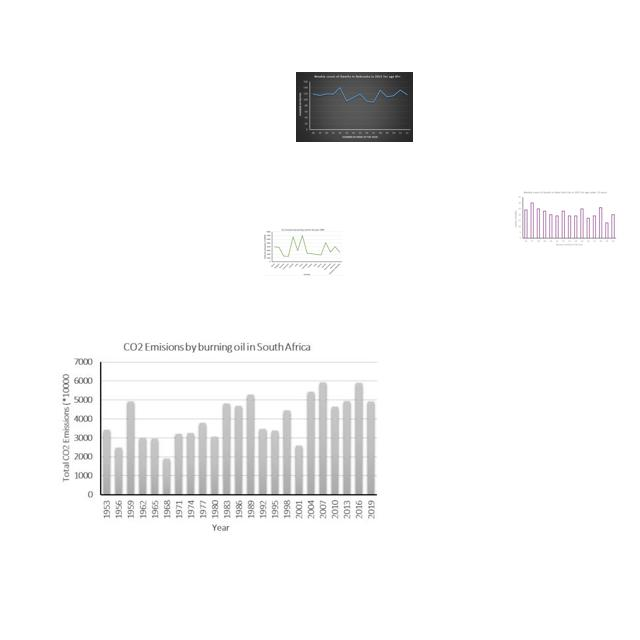Graph: (58, 336, 379, 536), (296, 72, 413, 142), (512, 189, 619, 249), (263, 228, 343, 276)
